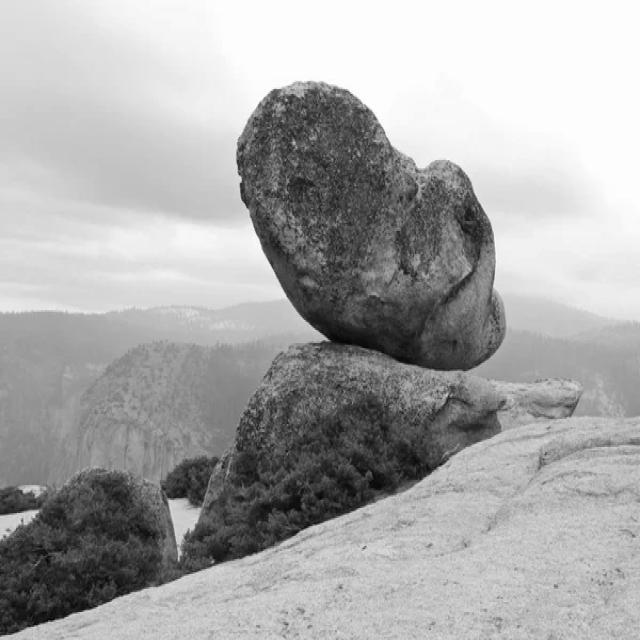Stone: (182, 344, 584, 572), (236, 81, 506, 369), (0, 473, 163, 634)
